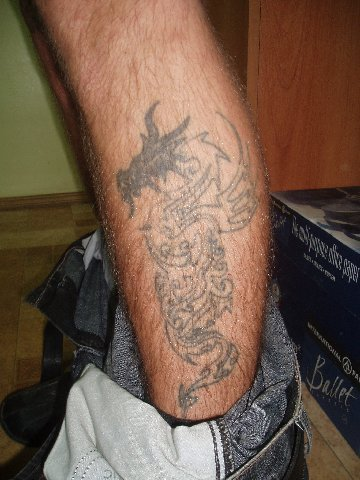tatu6_drakon: (101, 84, 286, 412)
